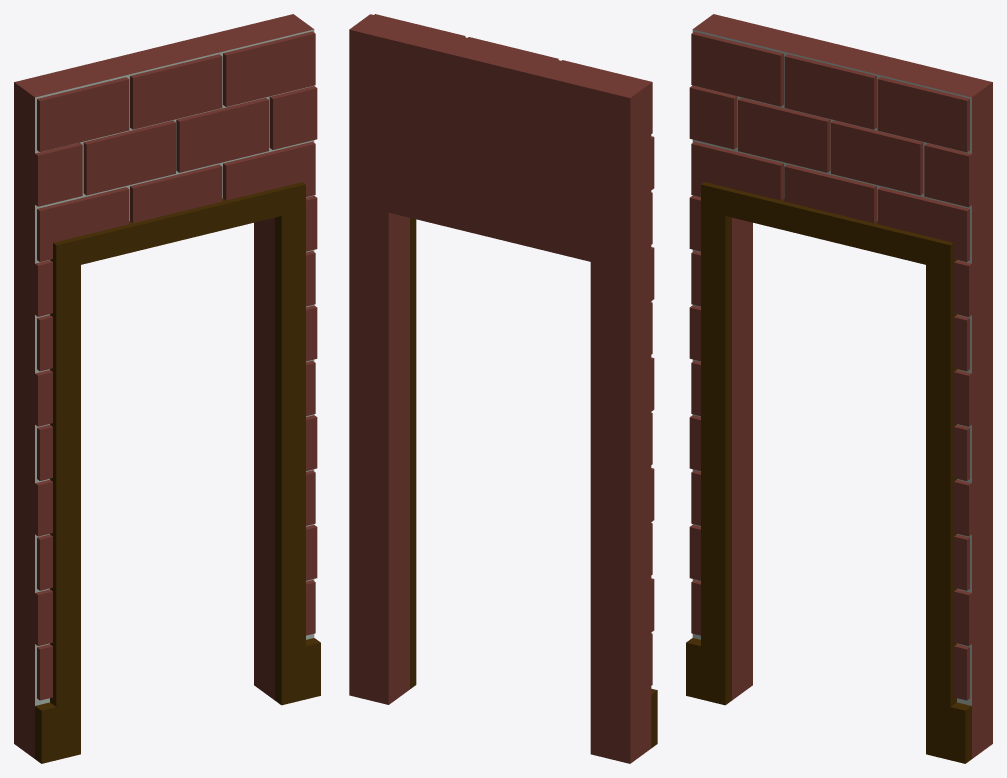
File: R_Wall_Small_Door.fbx
3 renders of one model, left to right at view 1: azimuth 30°, elevation 25°; view 2: azimuth 150°, elevation 25°; view 3: azimuth 330°, elevation 25°, orthographic.
Parts seen in each view (by area): view 1: R_Wall_Small_Door; view 2: R_Wall_Small_Door; view 3: R_Wall_Small_Door.
Part boxes in pixels (box(x1,y1,x2,y2)): R_Wall_Small_Door: box(14, 14, 320, 763); R_Wall_Small_Door: box(349, 14, 657, 763); R_Wall_Small_Door: box(686, 14, 992, 763).
Bounding box in the file's own units: 1000 × 170 × 2264.
